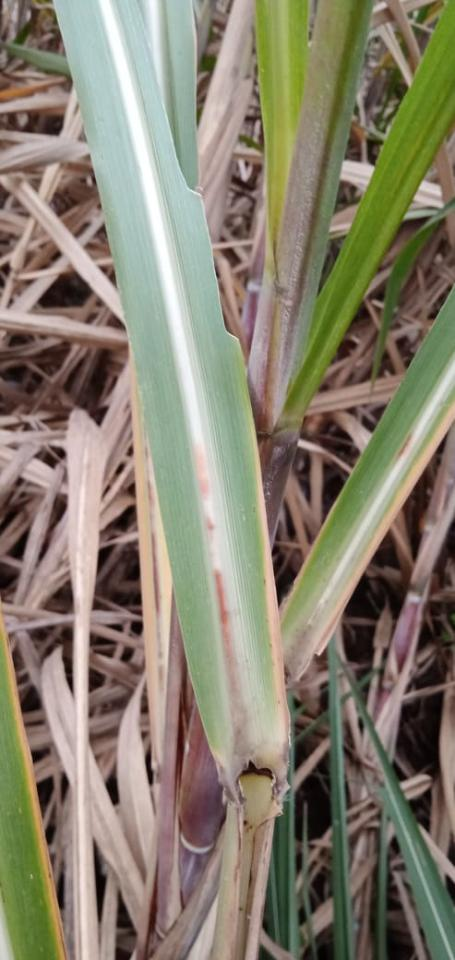RedRot: (213, 565, 241, 703), (189, 441, 213, 509), (203, 512, 218, 539)
